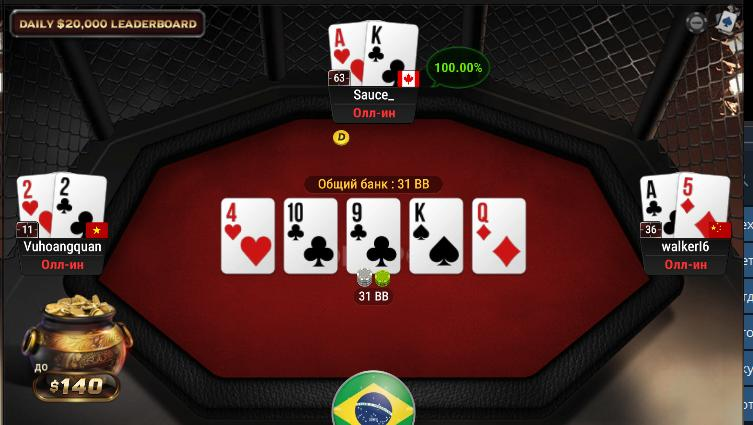10c: (285, 198, 337, 274)
2c: (53, 172, 107, 243)
2h: (17, 175, 54, 239)
4h: (221, 198, 275, 273)
5d: (678, 172, 731, 238)
9c: (347, 199, 400, 273)
Ac: (641, 175, 678, 239)
Ah: (327, 22, 366, 86)
Kc: (365, 18, 418, 87)
Ks: (410, 199, 462, 273)
Qd: (473, 198, 525, 273)
